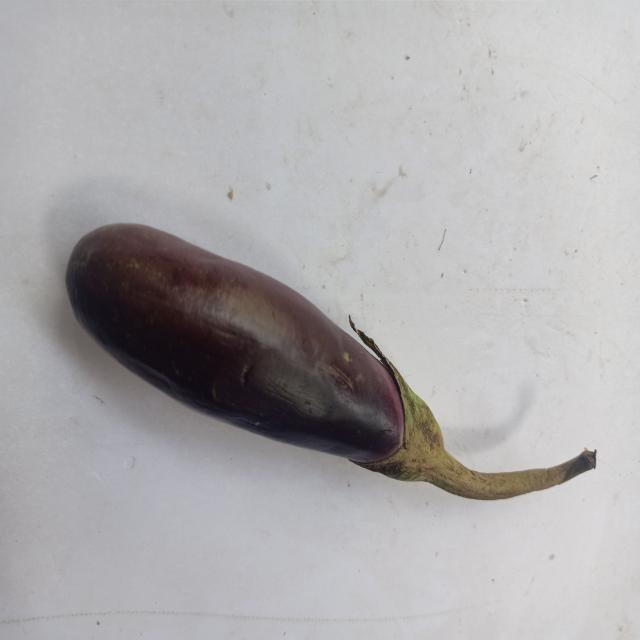Brinjal: (49, 148, 612, 544)
